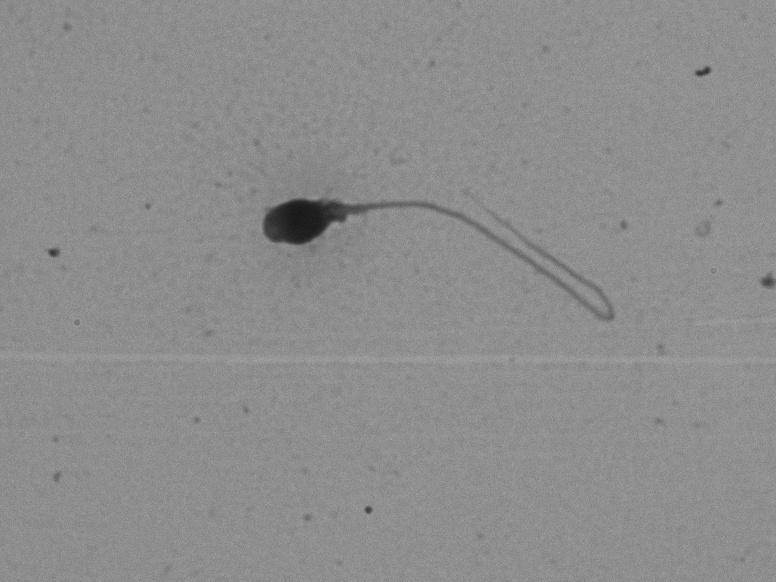Abnormal: (206, 151, 665, 334)
